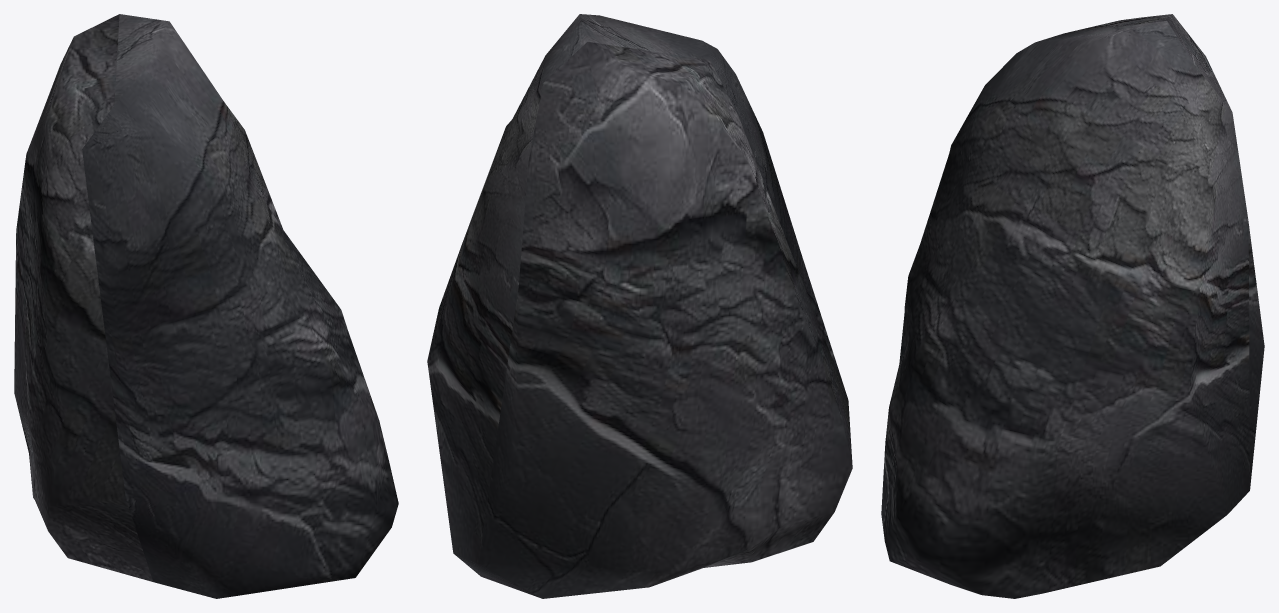
File: Rock2.fbx
The picture shows the model from 3 angles, left to right: view 1: azimuth 30°, elevation 25°; view 2: azimuth 150°, elevation 25°; view 3: azimuth 270°, elevation 25°; orthographic projection. The views are drawn at different scales.
Visible parts, largest first — view 1: rock.003; view 2: rock.003; view 3: rock.003.
Boxes of the visible parts, x1,y1,x2,y2 form: rock.003: (14,14,398,598); rock.003: (427,14,852,598); rock.003: (881,14,1264,598).
Bounding box in the file's own units: 286 × 436 × 294.
